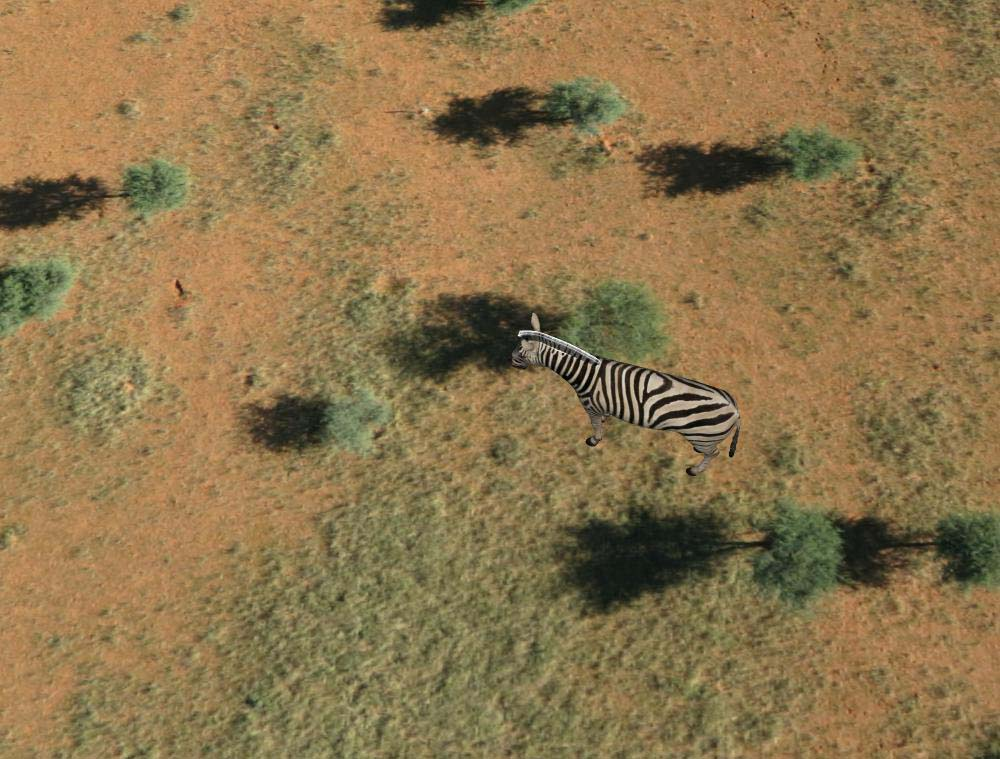zebra: (509, 312, 745, 477)
